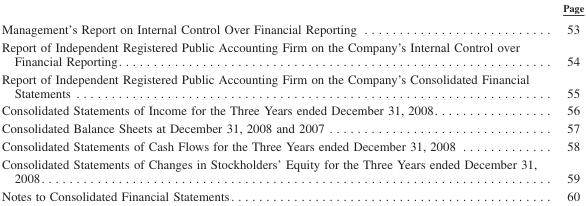table: (0, 1, 583, 202)
table column: (0, 1, 549, 202), (549, 1, 583, 202)
table column header: (0, 1, 583, 17)
table row: (0, 37, 583, 69), (0, 69, 583, 101), (0, 154, 583, 186), (0, 17, 583, 37), (0, 101, 583, 119), (0, 136, 583, 154), (0, 119, 583, 136), (0, 1, 583, 17), (0, 186, 583, 202)
